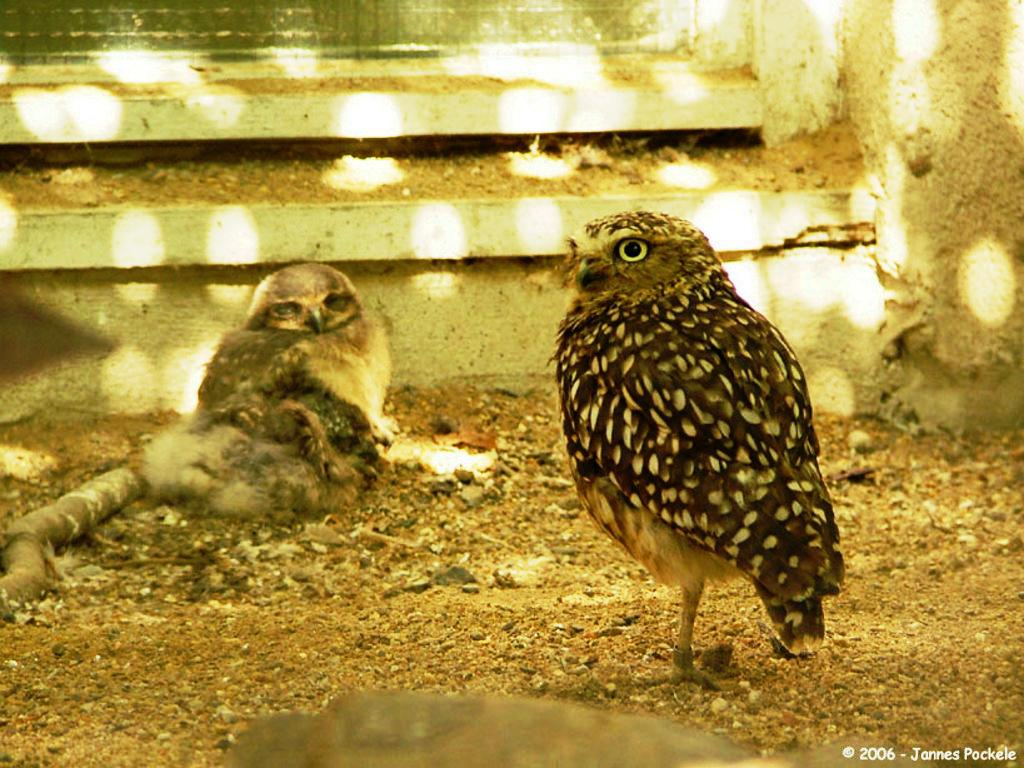Owl: (532, 204, 858, 686), (136, 264, 399, 524)
